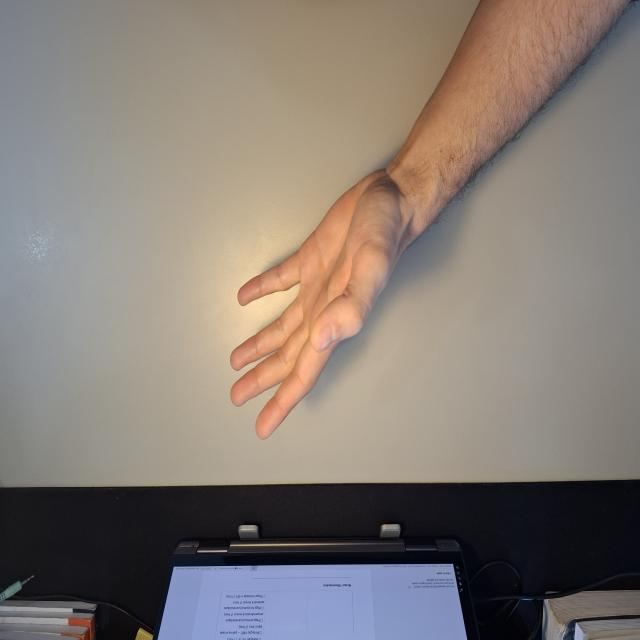glove_off: (228, 158, 406, 442)
